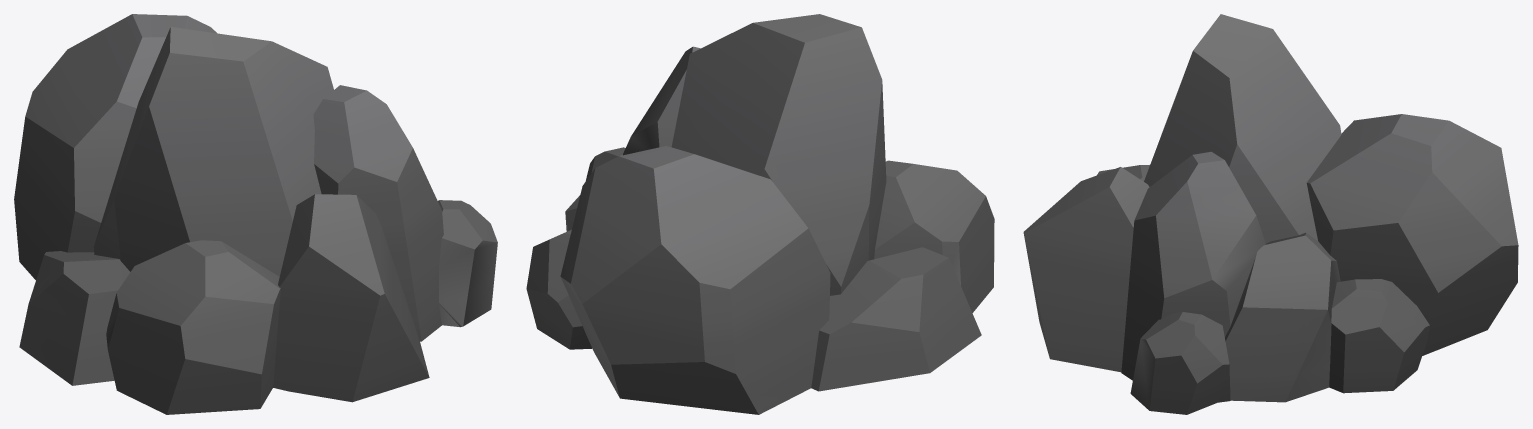
File: RockFormation_2.fbx
3 views of the same model, side by side, from view 1: azimuth 30°, elevation 25°; view 2: azimuth 150°, elevation 25°; view 3: azimuth 270°, elevation 25° (orthographic). The views are drawn at different scales.
Parts seen in each view (by area): view 1: RockFormation_2; view 2: RockFormation_2; view 3: RockFormation_2.
Part boxes in pixels (x1,y1,x2,y2): RockFormation_2: (14,14,497,414); RockFormation_2: (526,14,994,414); RockFormation_2: (1023,14,1518,414).
Bounding box in the file's own units: 392 × 272 × 449.
